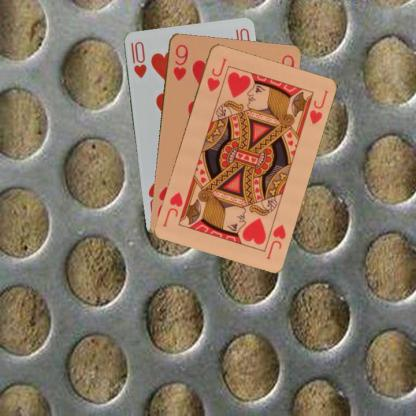10h: (128, 38, 147, 79)
9h: (170, 42, 189, 82)
Jh: (263, 221, 287, 261), (204, 55, 228, 93)
